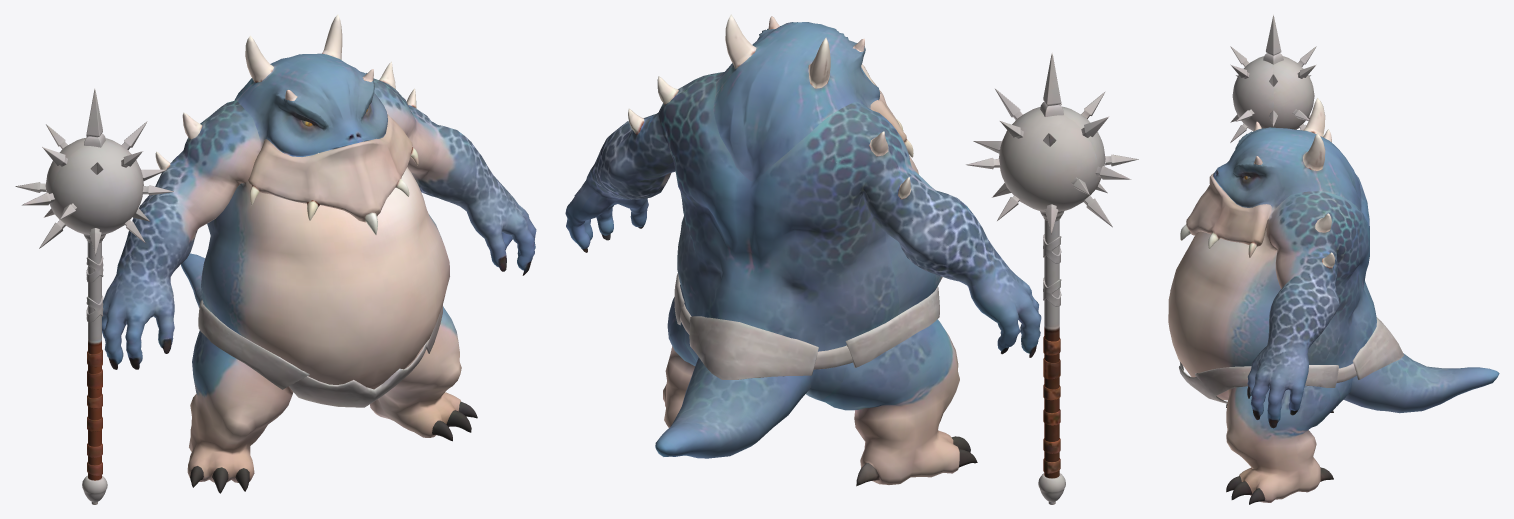
The model's file is pet-1147.glb.
3 renders of one model, left to right at view 1: azimuth 30°, elevation 25°; view 2: azimuth 150°, elevation 25°; view 3: azimuth 270°, elevation 25°, orthographic. The views are drawn at different scales.
Visible parts, largest first — view 1: VEH_Dratona_01; view 2: VEH_Dratona_01; view 3: VEH_Dratona_01.
Part boxes in pixels (x1,y1,x2,y2): VEH_Dratona_01: [15, 14, 536, 504]; VEH_Dratona_01: [565, 14, 1138, 504]; VEH_Dratona_01: [1168, 14, 1499, 504].
Bounding box in the file's own units: 1.99 × 1.54 × 1.33.
Materials: 1 (1 with a texture image).
